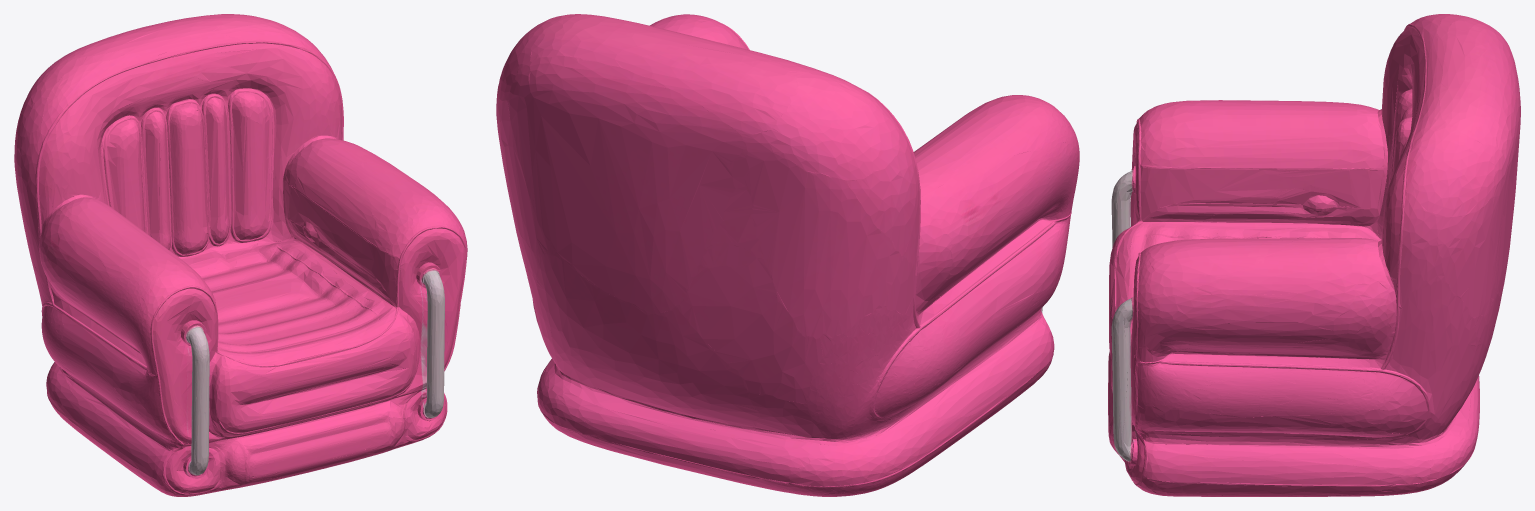
File: pink-mini-sofa.glb
The picture shows the model from 3 angles, left to right: view 1: azimuth 30°, elevation 25°; view 2: azimuth 150°, elevation 25°; view 3: azimuth 270°, elevation 25°; orthographic projection. The views are drawn at different scales.
Parts seen in each view (by area): view 1: material; view 2: material; view 3: material.
Part boxes in pixels (x1,y1,x2,y2): material: (14,14,467,496); material: (496,14,1079,496); material: (1108,14,1520,496).
Size of the model in its own units: 0.8445 by 0.7878 by 0.8002.
1 material, 1 textured.
